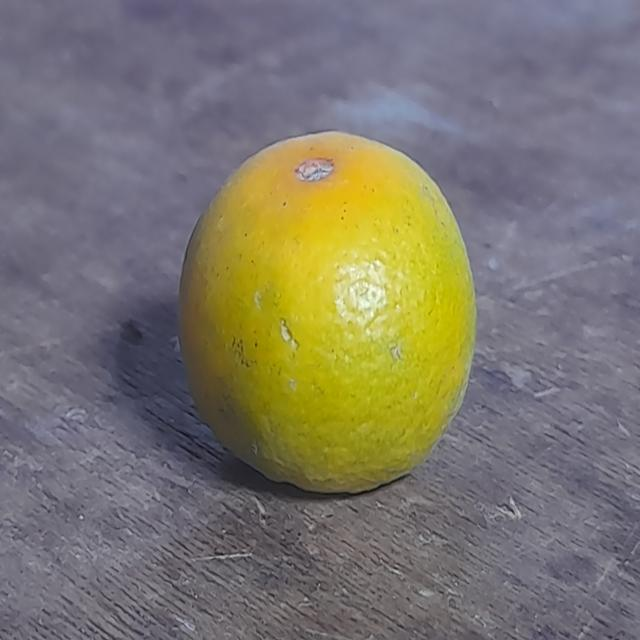greening: (177, 120, 482, 500)
